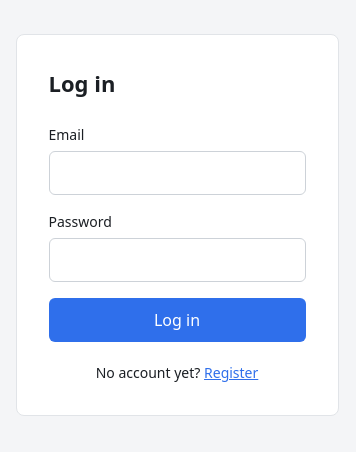
Test case: login and protected page › shows an error for invalid credentials
Type "jane@example.com" into the field labelled "Email". click: (177, 173)
box: top-left (48, 151), bottom-right (306, 195)
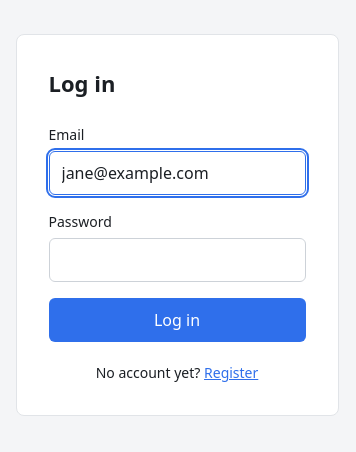
Type "wrong-pass1" into the password field labelled "Password". click: (177, 260)
box: top-left (48, 238), bottom-right (306, 282)
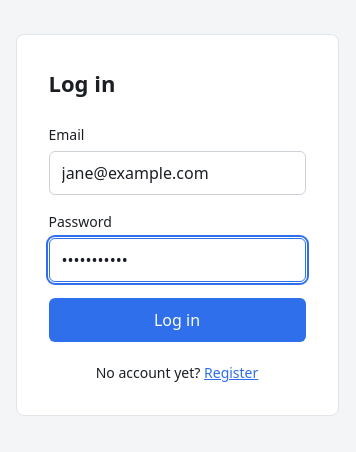
Click the button "Log in". click: (177, 320)
box: top-left (48, 298), bottom-right (306, 342)
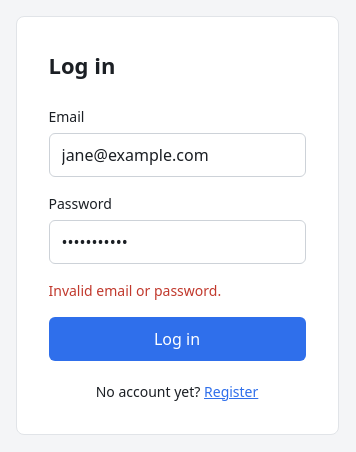
Expected: the message reads "Invalid email or password.", top-left (48, 280), bottom-right (221, 300)
